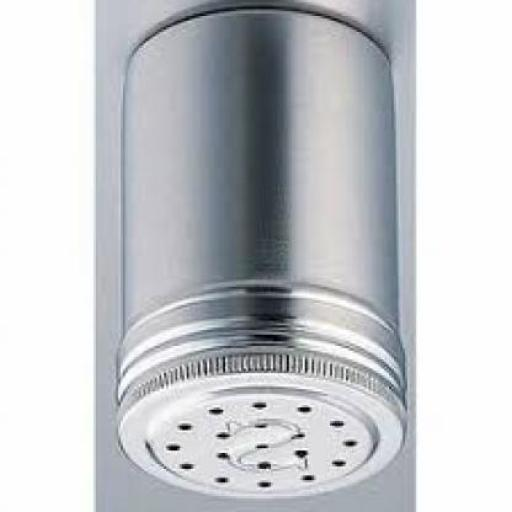metal: (116, 13, 405, 501)
